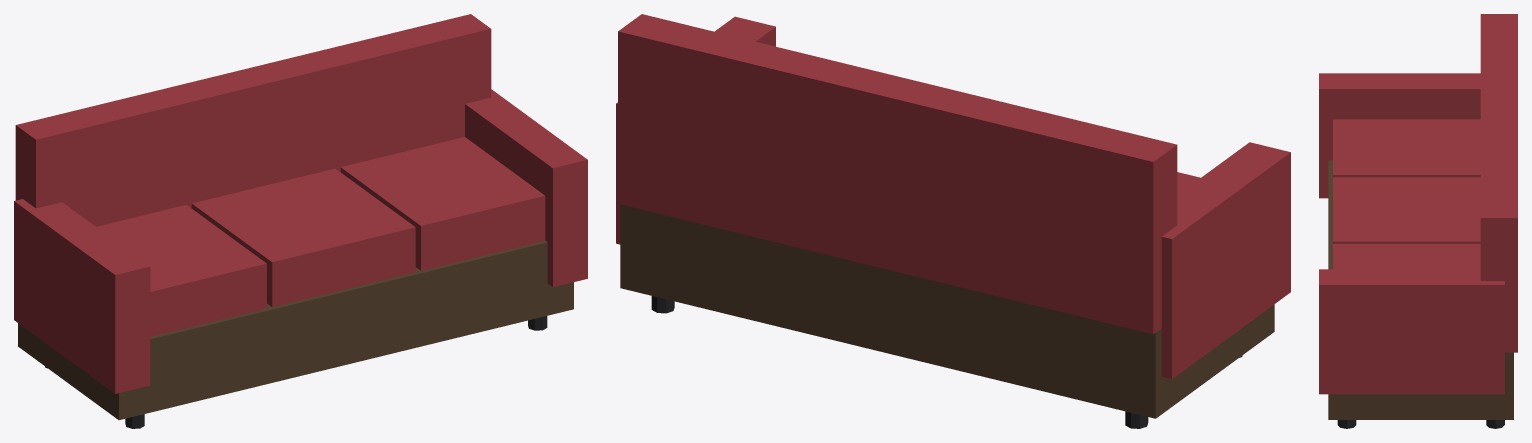
File: Sofa.fbx
3 views of the same model, side by side, from view 1: azimuth 30°, elevation 25°; view 2: azimuth 150°, elevation 25°; view 3: azimuth 270°, elevation 25° (orthographic). The views are drawn at different scales.
Visible parts, largest first — view 1: Sofa; view 2: Sofa; view 3: Sofa.
Boxes of the visible parts, bbox=[...] form: Sofa: bbox=[14, 14, 587, 428]; Sofa: bbox=[616, 14, 1290, 428]; Sofa: bbox=[1319, 14, 1517, 428].
Size of the model in its own units: 2.7 by 1.3 by 1.07.
